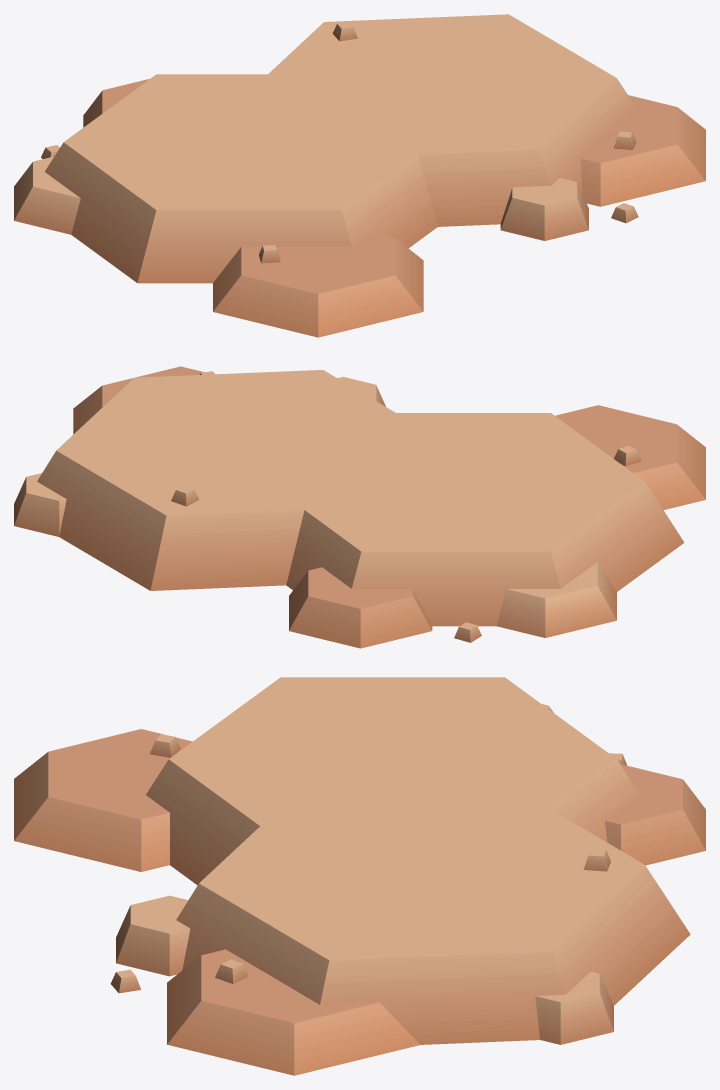
Rendered from rock-flat.glb.
The picture shows the model from 3 angles, top to bottom: view 1: azimuth 30°, elevation 25°; view 2: azimuth 150°, elevation 25°; view 3: azimuth 270°, elevation 25°; orthographic projection. The views are drawn at different scales.
Visible parts, largest first — view 1: rock-flat; view 2: rock-flat; view 3: rock-flat.
Part boxes in pixels (x1,y1,x2,y2): rock-flat: (14, 14, 705, 337); rock-flat: (14, 366, 705, 648); rock-flat: (14, 677, 705, 1075).
Size of the model in its own units: 1.79 by 0.195 by 1.45.
Materials: 1 (1 with a texture image).
